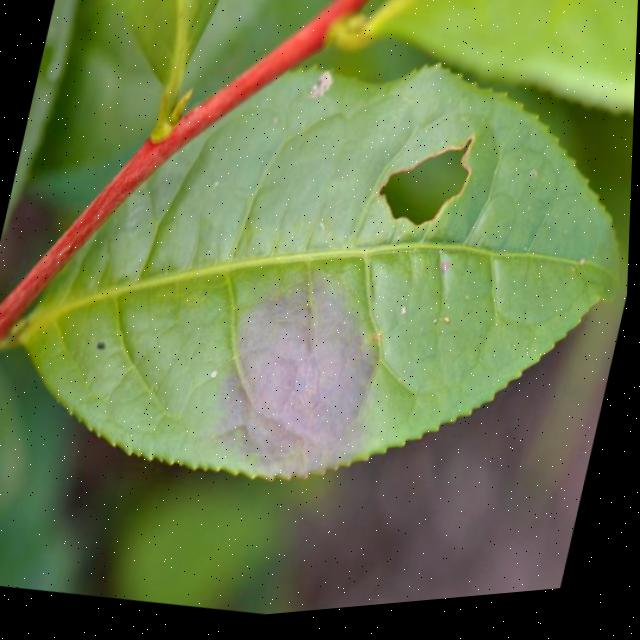Tea exobasidium blight: (200, 257, 417, 501)
